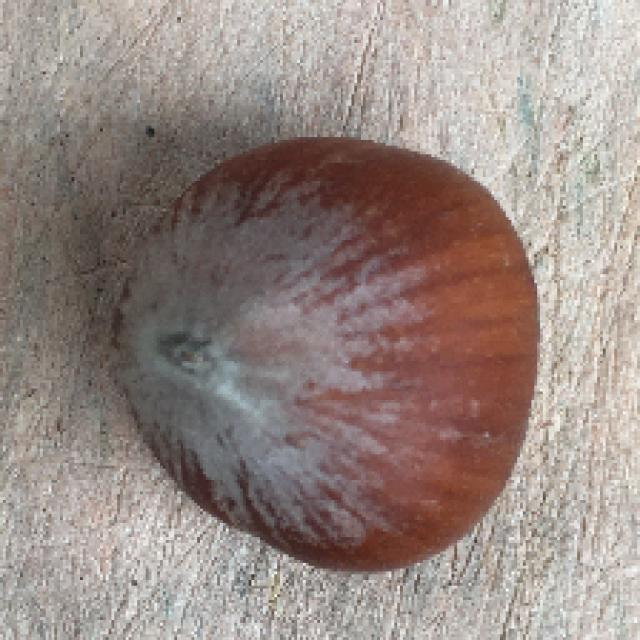qualityHazelnut: (112, 123, 539, 575)
